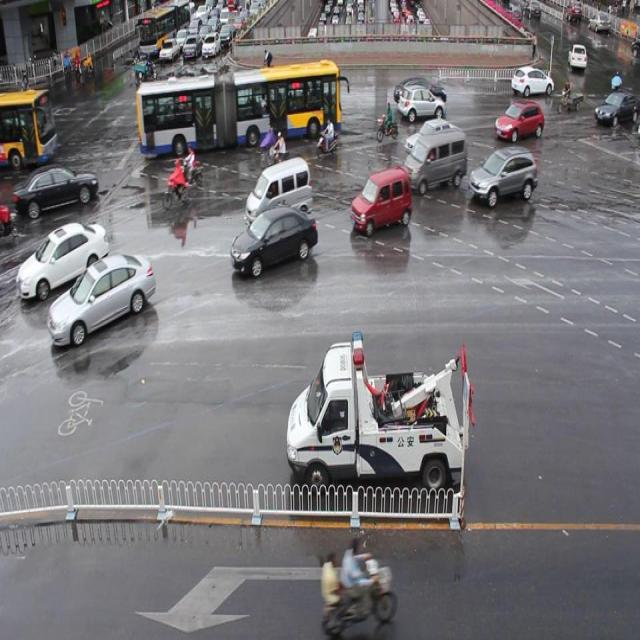bus: (286, 328, 474, 494)
car: (49, 252, 156, 342), (17, 222, 109, 296), (230, 206, 317, 274), (13, 165, 99, 213), (468, 146, 536, 202), (350, 168, 410, 230), (405, 120, 463, 155), (493, 99, 543, 139), (397, 83, 444, 124), (392, 76, 445, 110), (284, 70, 330, 104), (510, 64, 552, 97)
truck: (402, 128, 467, 193), (245, 160, 312, 223)
van: (138, 62, 342, 147)
